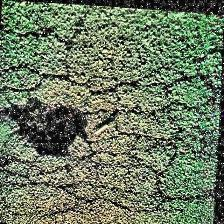pothole: (0, 92, 92, 162)
